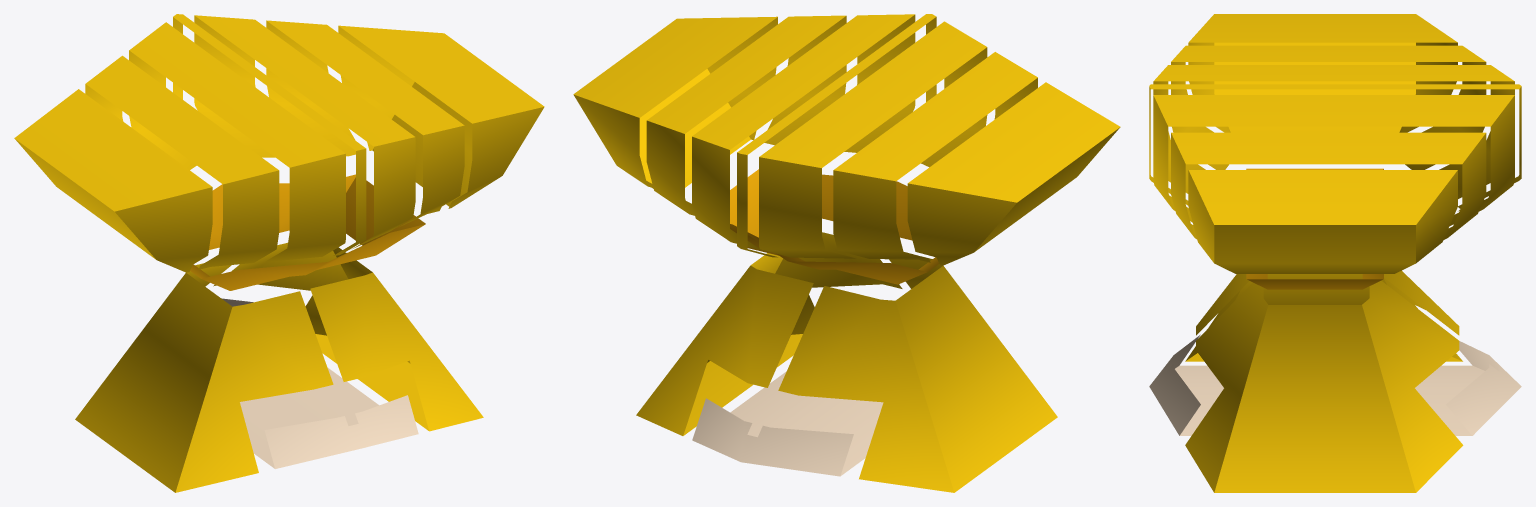
Rendered from C_GH_Body_F4.FBX.
The picture shows the model from 3 angles, left to right: view 1: azimuth 30°, elevation 25°; view 2: azimuth 150°, elevation 25°; view 3: azimuth 270°, elevation 25°; orthographic projection. The views are drawn at different scales.
Parts seen in each view (by area): view 1: Body; view 2: Body; view 3: Body.
Boxes of the visible parts, box(x1,y1,x2,y2) form: Body: box(14, 14, 544, 492); Body: box(573, 14, 1120, 492); Body: box(1149, 14, 1521, 492).
Size of the model in its own units: 18.04 by 13.2 by 13.46.
Materials: 1 (1 with a texture image).
